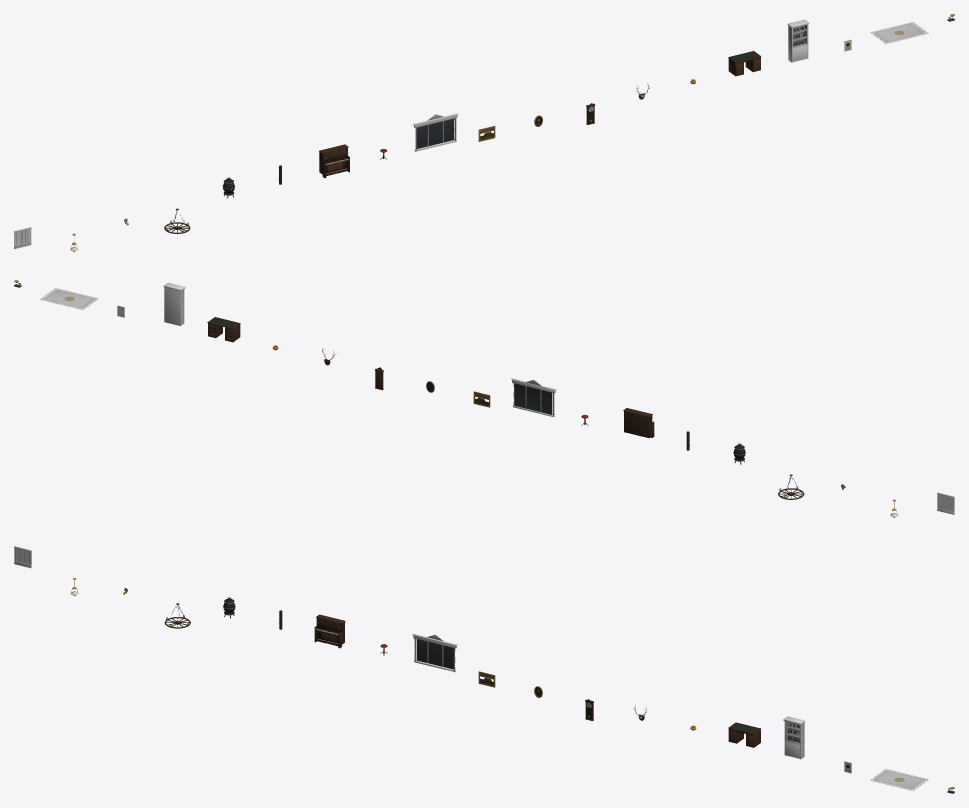
File: interior.fbx
3 views of the same model, one above another, from view 1: azimuth 30°, elevation 25°; view 2: azimuth 150°, elevation 25°; view 3: azimuth 330°, elevation 25° (orthographic).
Visible parts, largest first — view 1: in_mirror, in_cabinet, in_piano, in_rug, in_desk; view 2: in_mirror, in_cabinet, in_piano, in_rug, in_desk; view 3: in_mirror, in_cabinet, in_piano, in_rug, in_desk.
Part boxes in pixels (<box>): in_mirror: <box>413,113,458,151</box>; in_cabinet: <box>787,19,809,62</box>; in_piano: <box>319,144,349,178</box>; in_rug: <box>870,22,928,43</box>; in_desk: <box>728,51,761,76</box>; in_mirror: <box>511,378,556,416</box>; in_cabinet: <box>163,282,185,325</box>; in_piano: <box>623,408,654,437</box>; in_rug: <box>40,288,97,309</box>; in_desk: <box>207,317,240,342</box>; in_mirror: <box>412,633,457,672</box>; in_cabinet: <box>783,716,805,759</box>; in_piano: <box>314,614,345,648</box>; in_rug: <box>870,769,928,790</box>; in_desk: <box>728,722,761,747</box>.
Bounding box in the file's own units: 54.7 × 3.15 × 1.6.
